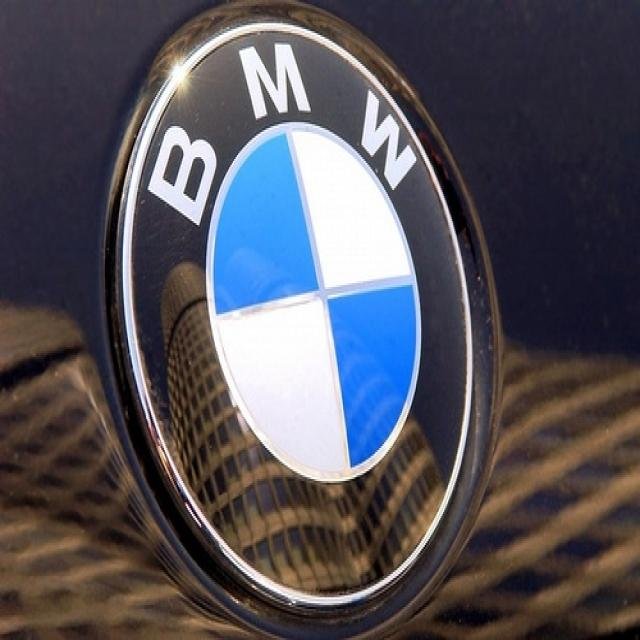bmw: (112, 13, 480, 622)
